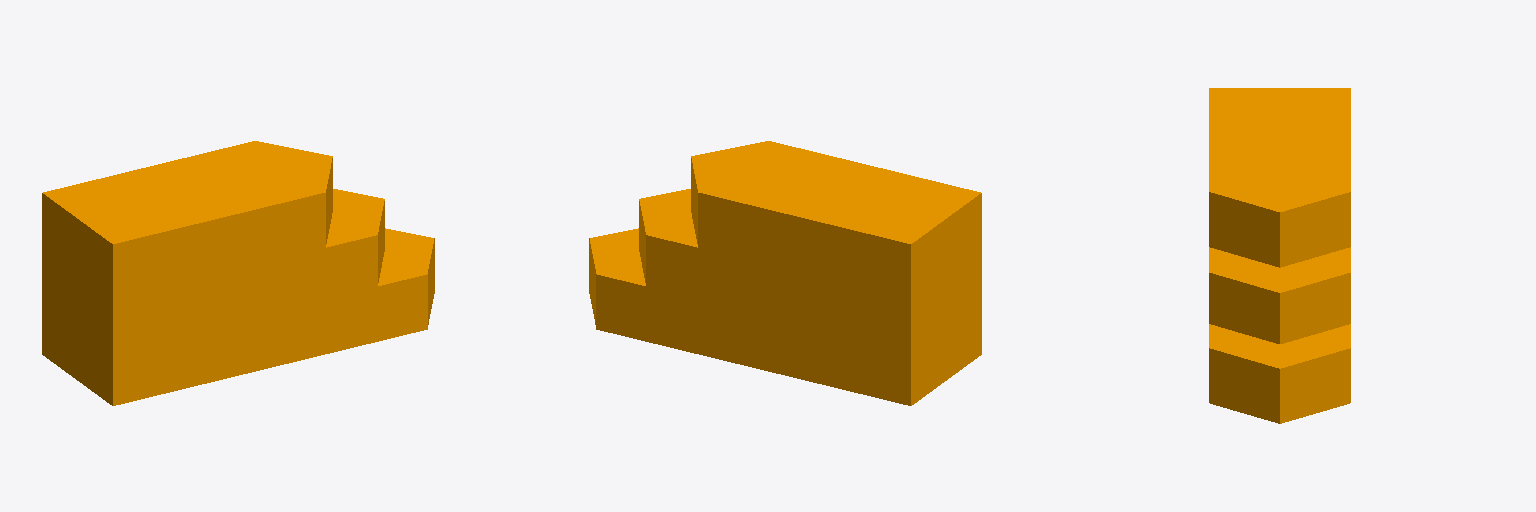
Rendered from separator_004.obj.
3 renders of one model, left to right at view 1: azimuth 30°, elevation 25°; view 2: azimuth 150°, elevation 25°; view 3: azimuth 270°, elevation 25°, orthographic.
Parts seen in each view (by area): view 1: separator.004_Cube.015; view 2: separator.004_Cube.015; view 3: separator.004_Cube.015.
Boxes of the visible parts, box(x1,y1,x2,y2) form: separator.004_Cube.015: box(42, 141, 434, 405); separator.004_Cube.015: box(589, 141, 981, 405); separator.004_Cube.015: box(1209, 88, 1350, 423).
Bounding box in the file's own units: 1.22 × 0.5296 × 0.4185.